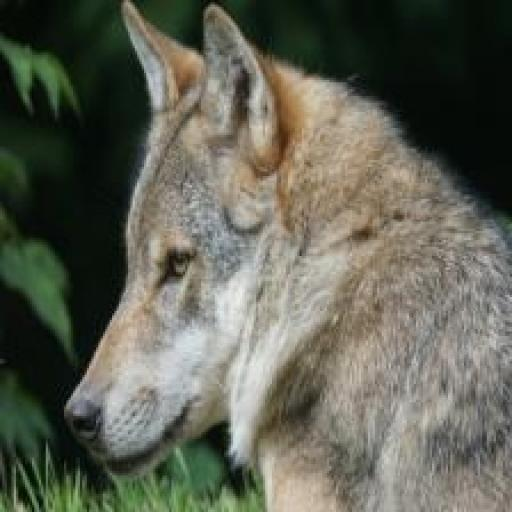wolf: (66, 0, 511, 512)
